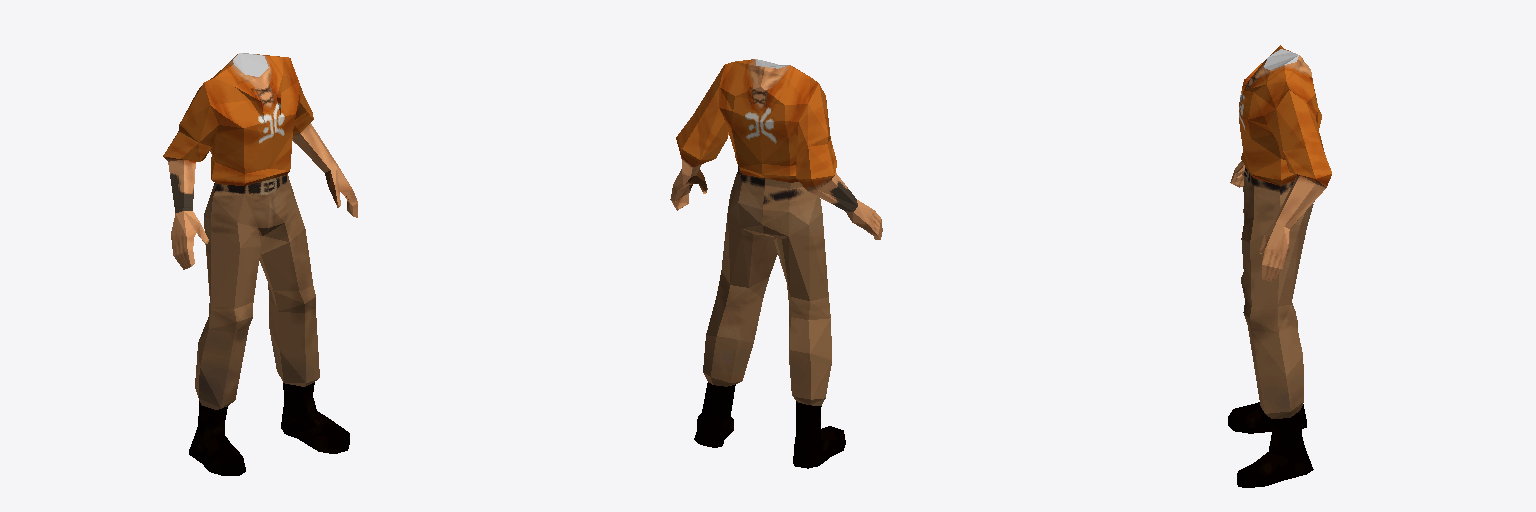
3 views of the same model, side by side, from view 1: azimuth 30°, elevation 25°; view 2: azimuth 150°, elevation 25°; view 3: azimuth 270°, elevation 25° (orthographic).
Visible parts, largest first — view 1: Regroup51; view 2: Regroup51; view 3: Regroup51.
Part boxes in pixels (bbox=[...]): Regroup51: bbox=[163, 53, 357, 475]; Regroup51: bbox=[670, 59, 882, 468]; Regroup51: bbox=[1228, 45, 1331, 487].
Size of the model in its own units: 0.3125 by 0.6124 by 0.1474.
19 materials, 15 textured.